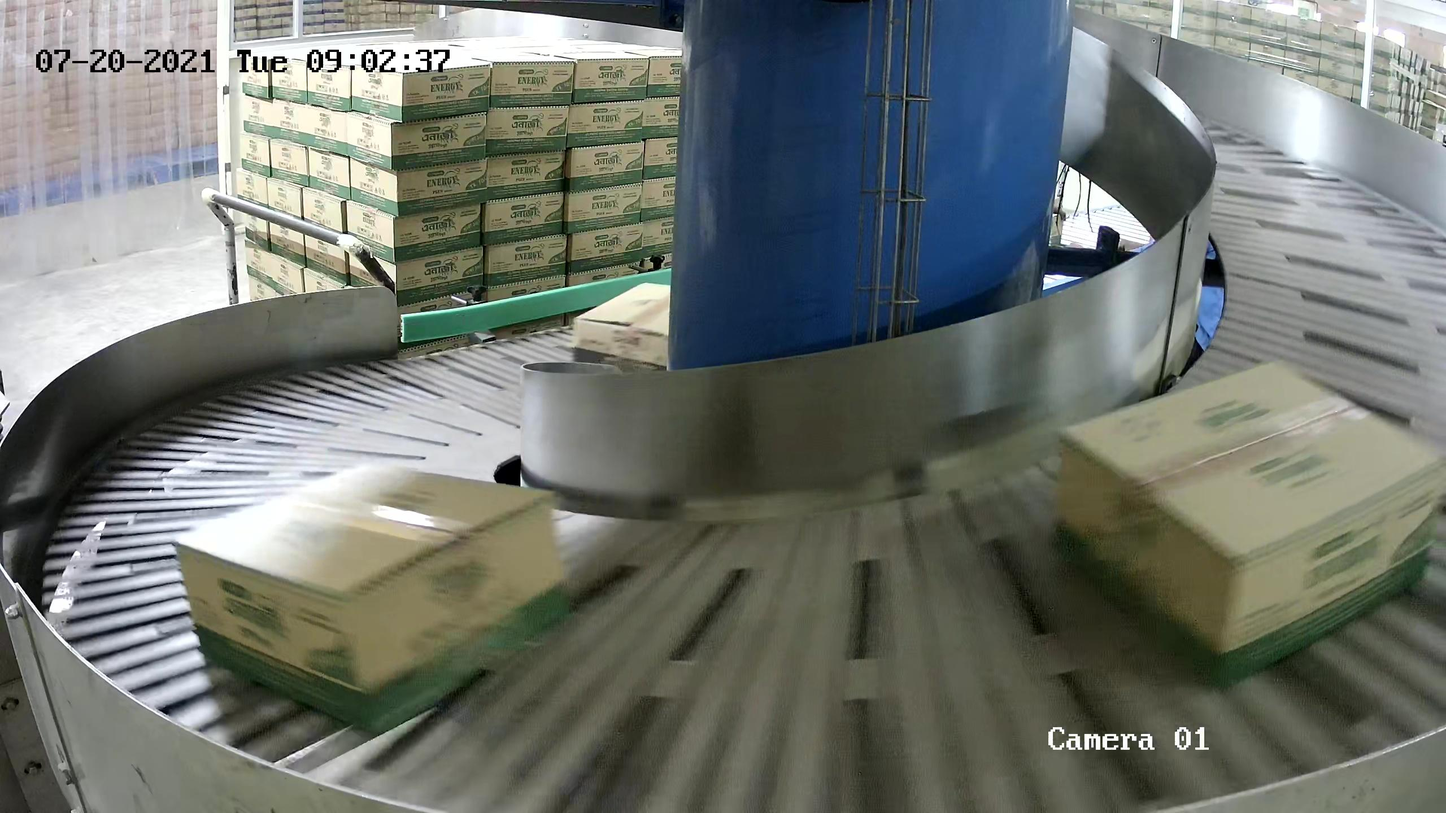Box: (1054, 355, 1446, 693), (175, 461, 573, 739), (574, 281, 708, 381)
